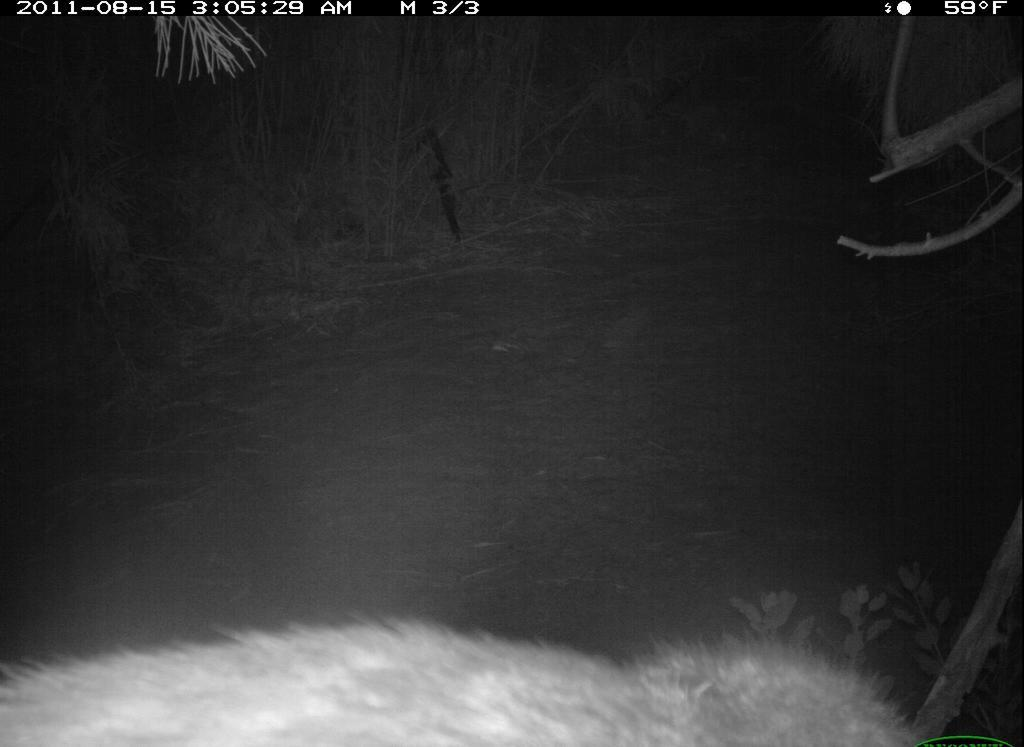raccoon: (1, 612, 958, 747)
